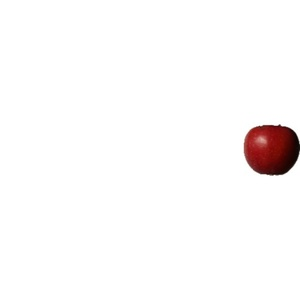maçã braeburn: (240, 122, 298, 180)
